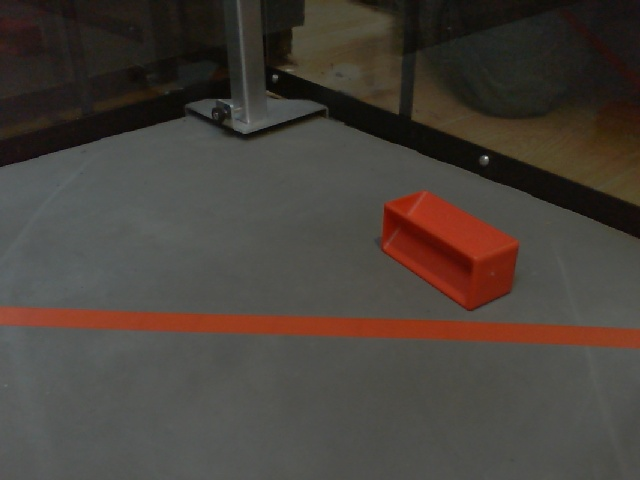RedSample: (382, 190, 520, 313)
